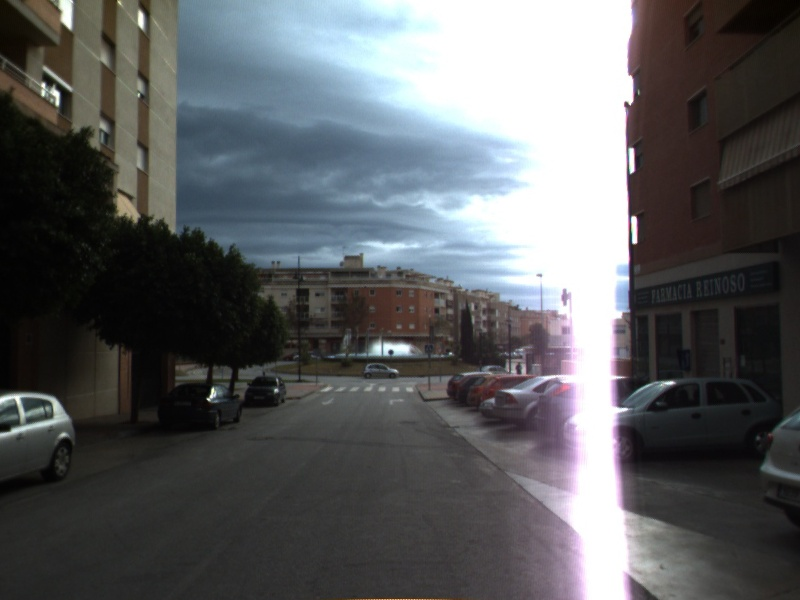RIGHT: (387, 396, 407, 407)
